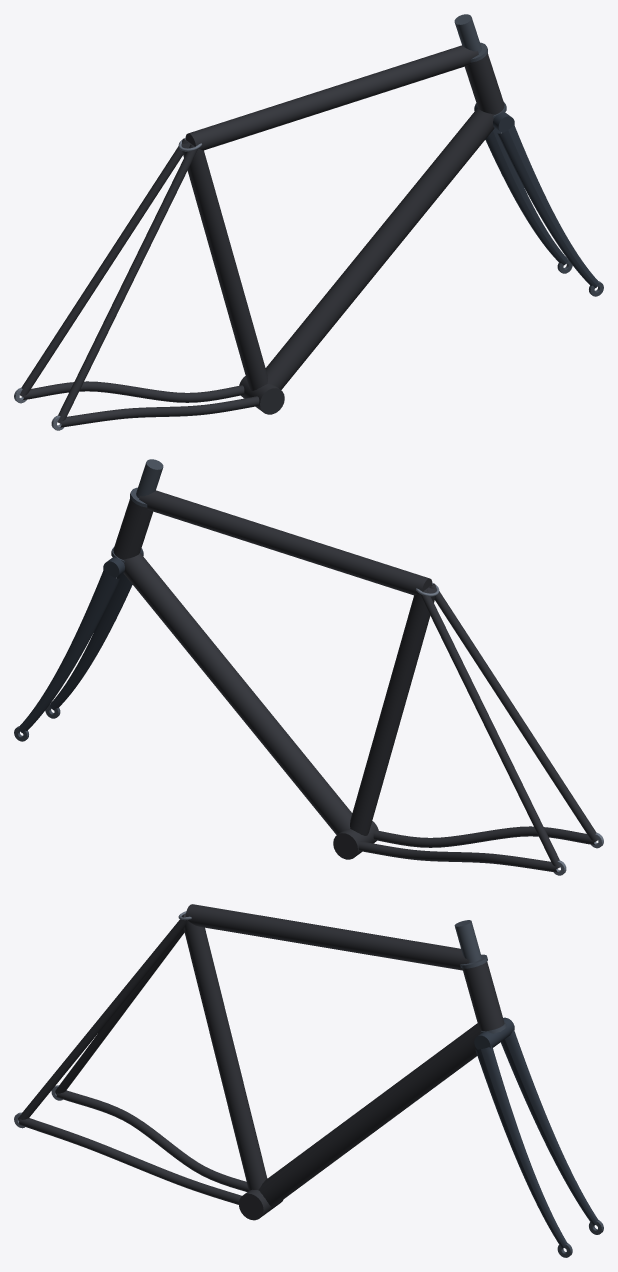
Rendered from state-black-label-v3-49.glb.
3 renders of one model, top to bottom at view 1: azimuth 30°, elevation 25°; view 2: azimuth 150°, elevation 25°; view 3: azimuth 330°, elevation 25°, orthographic.
Parts seen in each view (by area): view 1: paint_down, paint_top, paint_seat, paint_seatstay_1, paint_seatstay_-1, fork_blade_1, paint_chainstay_-1, paint_chainstay_1, fork_blade_-1, paint_head, paint_bottom_bracket, fork_steerer; view 2: paint_down, paint_top, paint_seat, paint_seatstay_-1, paint_seatstay_1, fork_blade_-1, paint_chainstay_1, paint_chainstay_-1, fork_blade_1, paint_head, paint_bottom_bracket, fork_steerer; view 3: paint_down, paint_top, paint_seat, fork_blade_1, fork_blade_-1, paint_chainstay_1, paint_seatstay_1, paint_chainstay_-1, paint_head, paint_seatstay_-1, fork_steerer, paint_bottom_bracket (+1 smaller).
Part boxes in pixels (left/top/right/bottom): paint_down: left=265, top=108, right=494, bottom=389; paint_top: left=185, top=45, right=478, bottom=150; paint_seat: left=181, top=141, right=267, bottom=390; paint_seatstay_1: left=57, top=144, right=197, bottom=423; paint_seatstay_-1: left=20, top=138, right=188, bottom=397; fork_blade_1: left=497, top=125, right=598, bottom=287; paint_chainstay_-1: left=22, top=381, right=244, bottom=402; paint_chainstay_1: left=60, top=396, right=259, bottom=427; fork_blade_-1: left=485, top=128, right=567, bottom=265; paint_head: left=465, top=53, right=504, bottom=114; paint_bottom_bracket: left=239, top=376, right=284, bottom=414; fork_steerer: left=454, top=14, right=481, bottom=53; paint_down: left=123, top=553, right=352, bottom=834; paint_top: left=139, top=490, right=432, bottom=595; paint_seat: left=350, top=586, right=436, bottom=835; paint_seatstay_-1: left=420, top=589, right=560, bottom=868; paint_seatstay_1: left=429, top=583, right=597, bottom=842; fork_blade_-1: left=19, top=570, right=120, bottom=732; paint_chainstay_1: left=373, top=826, right=595, bottom=847; paint_chainstay_-1: left=358, top=841, right=557, bottom=872; fork_blade_1: left=50, top=573, right=132, bottom=710; paint_head: left=113, top=498, right=152, bottom=559; paint_bottom_bracket: left=333, top=821, right=378, bottom=859; fork_steerer: left=136, top=459, right=163, bottom=498; paint_down: left=258, top=1023, right=482, bottom=1207; paint_top: left=185, top=904, right=469, bottom=970; paint_seat: left=181, top=913, right=267, bottom=1190; fork_blade_1: left=475, top=1046, right=567, bottom=1248; fork_blade_-1: left=501, top=1030, right=598, bottom=1225; paint_chainstay_1: left=19, top=1118, right=241, bottom=1204; paint_seatstay_1: left=18, top=914, right=187, bottom=1120; paint_chainstay_-1: left=56, top=1090, right=248, bottom=1191; paint_head: left=462, top=961, right=504, bottom=1031; paint_seatstay_-1: left=55, top=929, right=184, bottom=1094; fork_steerer: left=454, top=920, right=501, bottom=1031; paint_bottom_bracket: left=238, top=1189, right=283, bottom=1220.
Bounding box in the file's own units: 1.02 × 0.6012 × 0.1396.
